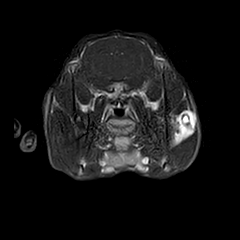Brain: (68, 6, 167, 104)
